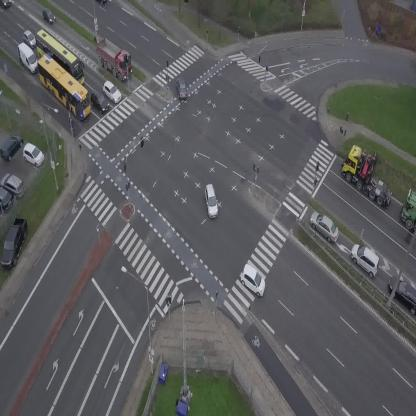bicycle: (68, 118, 75, 134)
bus: (29, 51, 100, 122), (25, 27, 94, 89)
car: (345, 240, 387, 280), (304, 208, 345, 245), (234, 263, 273, 299), (86, 88, 114, 115), (99, 79, 125, 105), (203, 183, 219, 218), (20, 28, 40, 49), (39, 6, 58, 26), (175, 77, 188, 100), (95, 0, 107, 4)
lorry: (334, 138, 398, 218), (89, 34, 141, 84), (12, 40, 43, 77), (400, 189, 416, 232)
